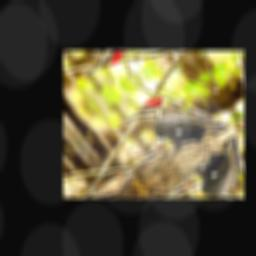Woodpecker: (121, 77, 230, 169)
